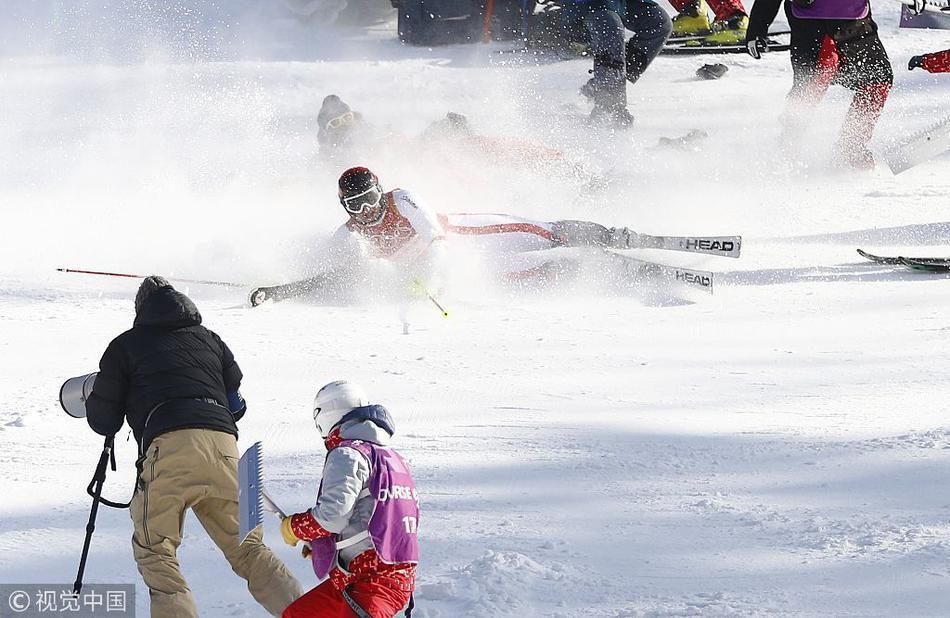Fall-Detected: (262, 154, 761, 321)
